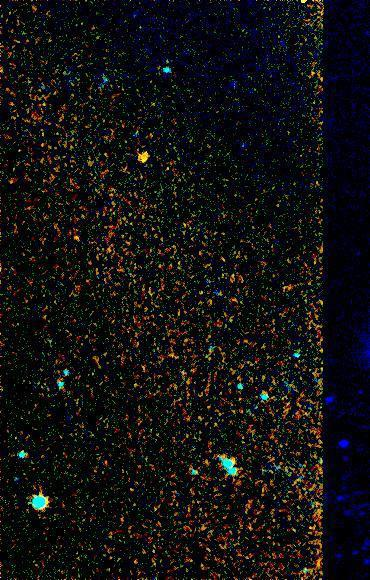star: (290, 0, 320, 20)
